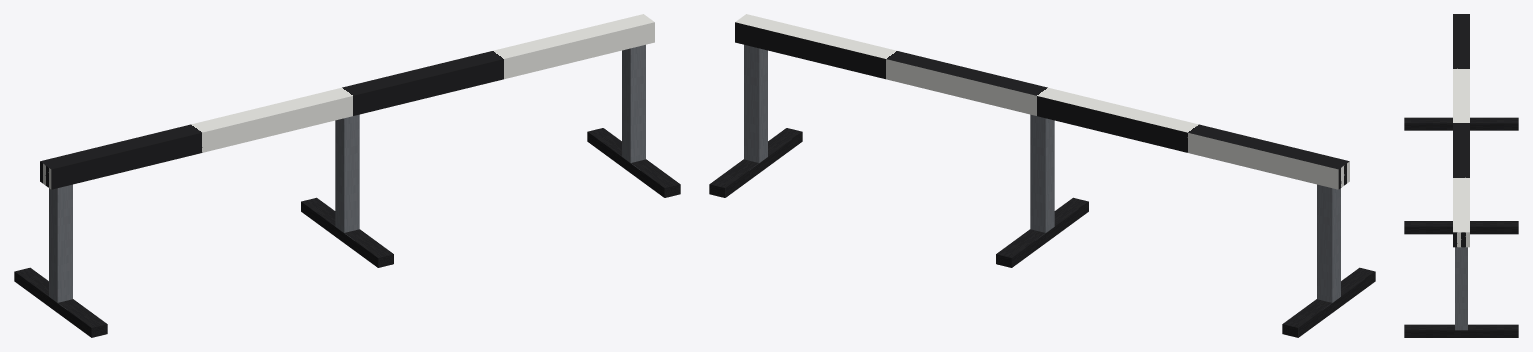
Rendered from steeplechase_barrier.obj.
3 renders of one model, left to right at view 1: azimuth 30°, elevation 25°; view 2: azimuth 150°, elevation 25°; view 3: azimuth 270°, elevation 25°, orthographic. The views are drawn at different scales.
Parts seen in each view (by area): view 1: steeplechase_barrier; view 2: steeplechase_barrier; view 3: steeplechase_barrier.
Part boxes in pixels (<box>): steeplechase_barrier: <box>14,14,680,337</box>; steeplechase_barrier: <box>709,14,1375,337</box>; steeplechase_barrier: <box>1404,14,1518,337</box>.
Size of the model in its own units: 3.95 by 0.9159 by 0.875.
